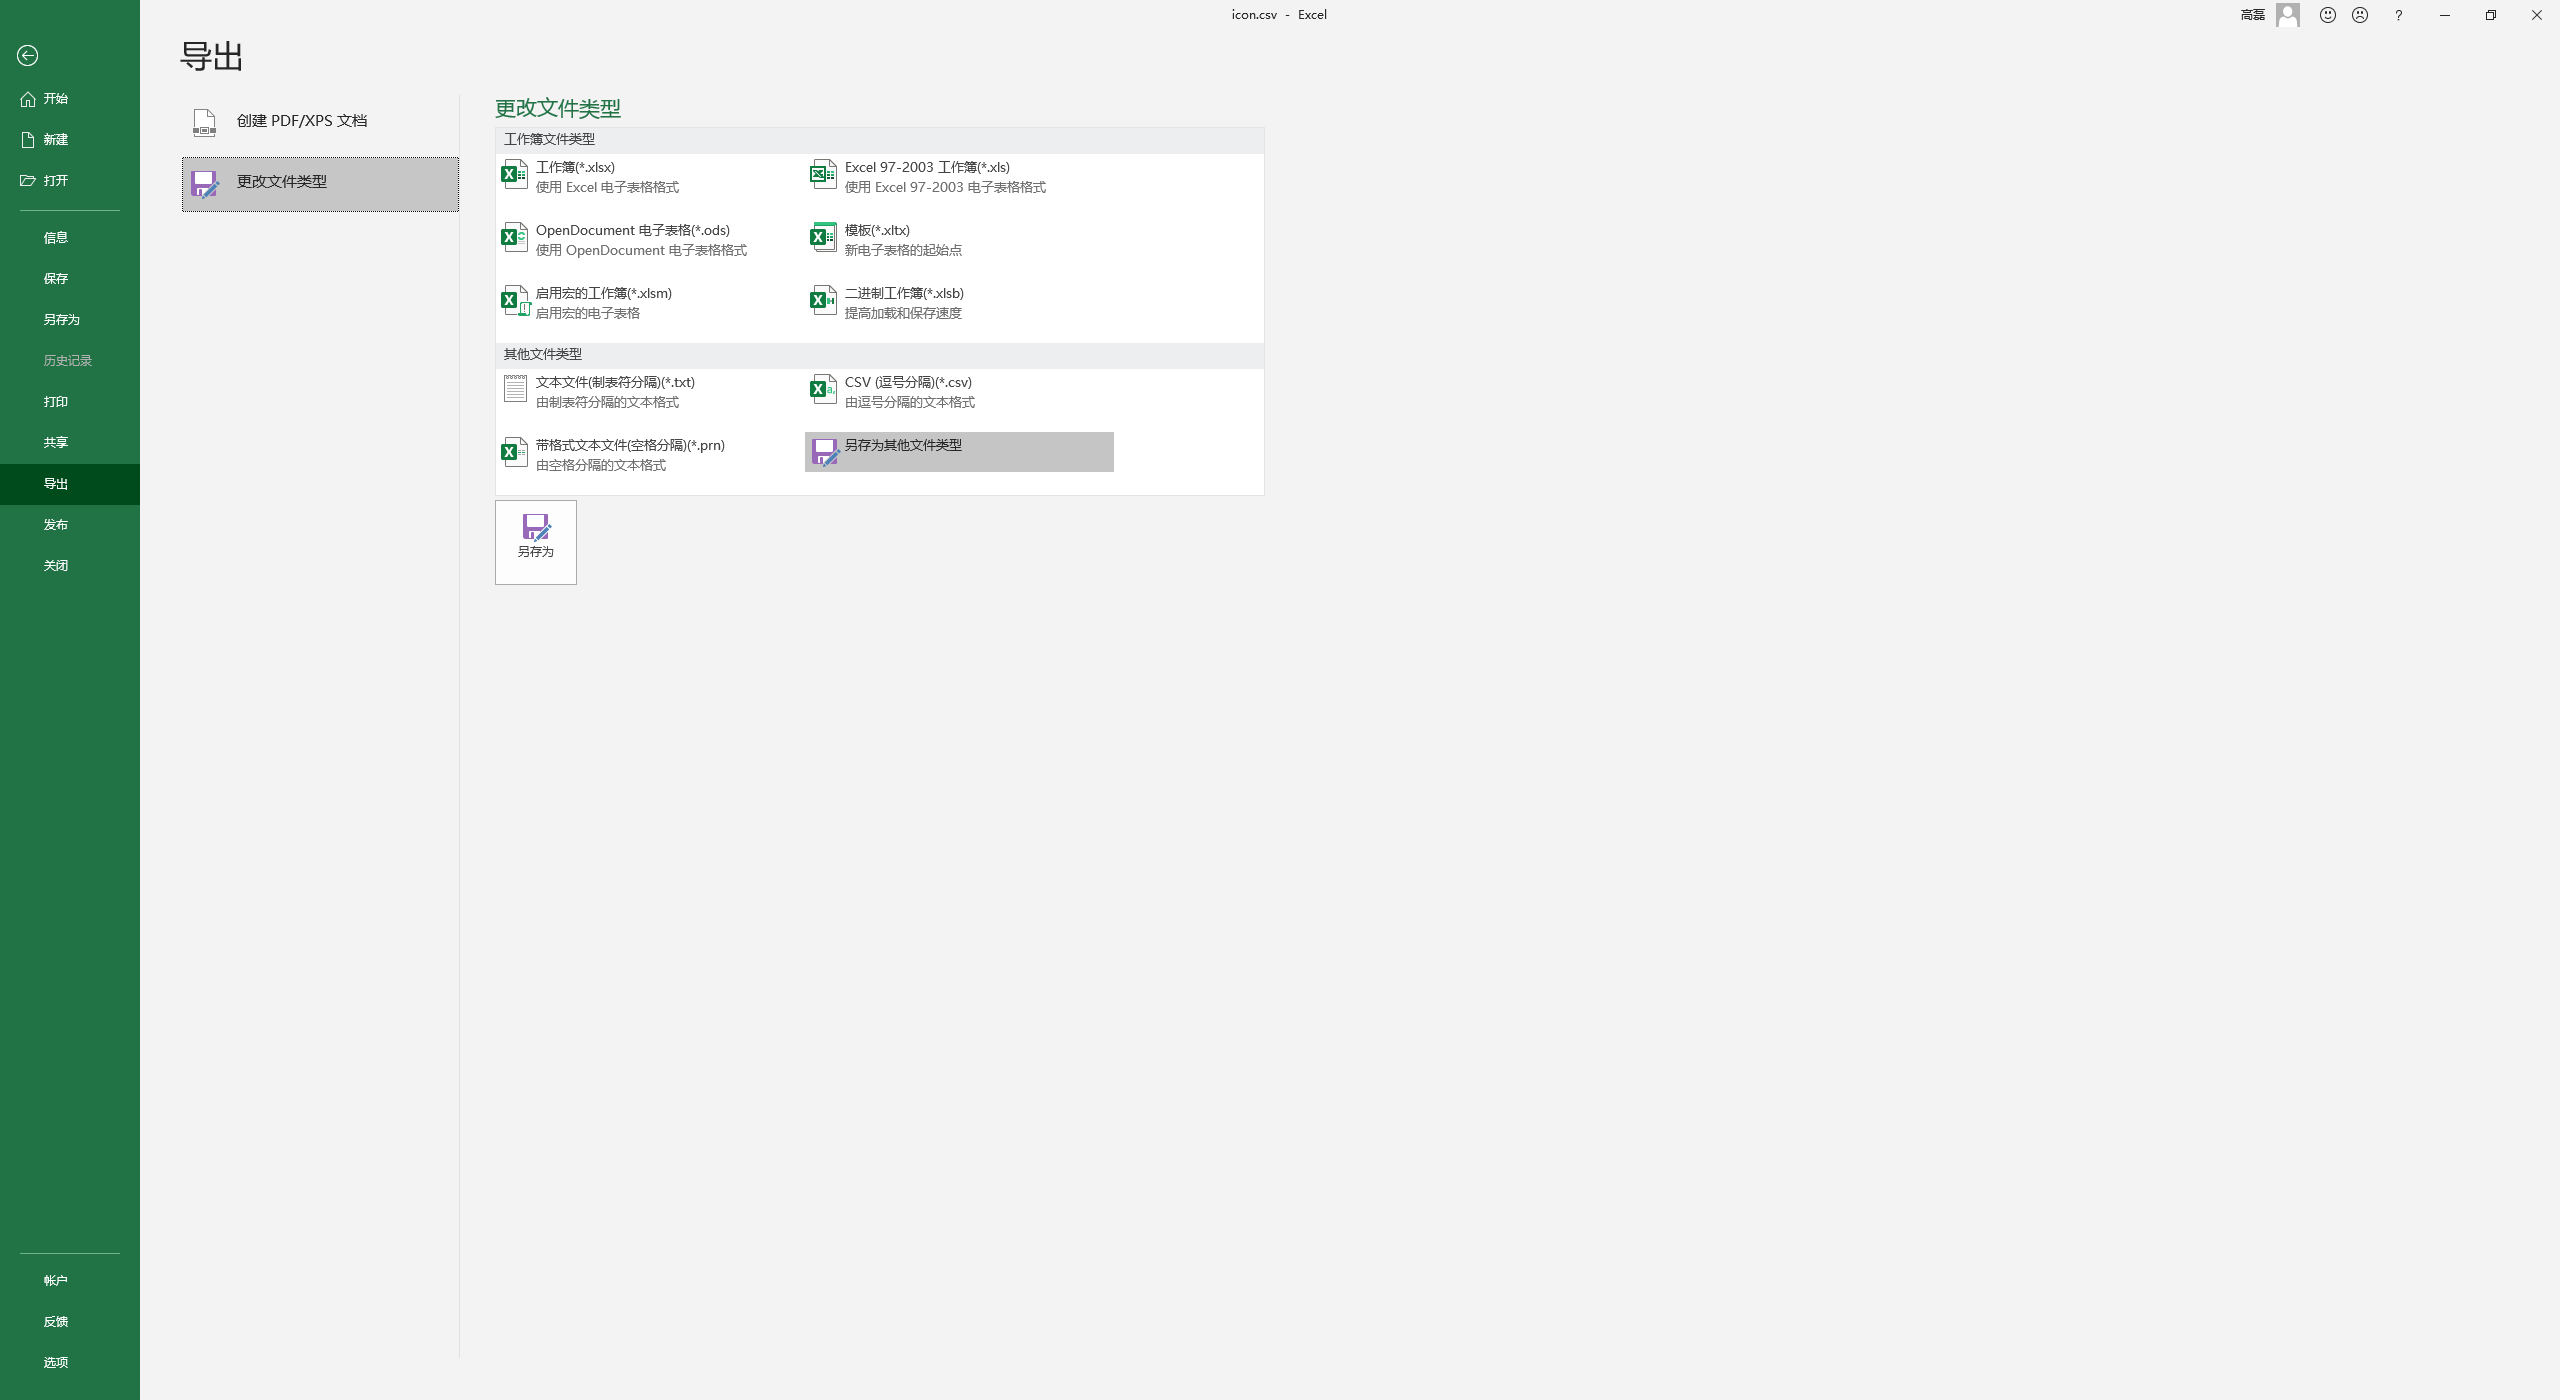character: (534, 436, 729, 453), (538, 241, 748, 257), (845, 181, 1052, 197), (236, 109, 371, 129), (845, 436, 986, 455), (848, 159, 1014, 174), (846, 395, 995, 412), (538, 179, 679, 197), (496, 98, 624, 117), (534, 283, 674, 300), (534, 224, 731, 236), (841, 284, 972, 300), (845, 374, 976, 390), (536, 305, 648, 322), (1229, 5, 1338, 22), (540, 374, 695, 386), (846, 241, 965, 257), (538, 455, 667, 469), (538, 397, 684, 409), (241, 174, 329, 191), (503, 131, 598, 145), (848, 307, 965, 317), (496, 347, 591, 359), (536, 160, 622, 172), (846, 222, 921, 236), (45, 352, 91, 369), (43, 314, 83, 328), (41, 436, 76, 452), (41, 229, 71, 247), (515, 547, 557, 559), (2239, 5, 2265, 24), (43, 1353, 71, 1371), (41, 269, 67, 286), (41, 1314, 72, 1328), (41, 516, 71, 529), (43, 91, 71, 105), (45, 133, 74, 145), (45, 476, 67, 491), (41, 559, 67, 571), (47, 397, 69, 410), (41, 1278, 71, 1286), (43, 178, 71, 186)
icon: (178, 36, 245, 71), (805, 433, 841, 471), (498, 284, 531, 317), (188, 169, 221, 200), (807, 221, 838, 253), (807, 372, 838, 405), (498, 155, 528, 190), (498, 219, 528, 253), (809, 155, 838, 190), (521, 512, 553, 541), (809, 284, 838, 316), (498, 436, 528, 467), (502, 372, 528, 403), (2274, 2, 2301, 28), (191, 109, 215, 133), (2315, 3, 2339, 24), (16, 45, 36, 66), (2350, 3, 2370, 24), (2434, 5, 2455, 22), (19, 129, 36, 148), (17, 171, 36, 188), (2389, 5, 2408, 22), (19, 90, 36, 107), (2527, 5, 2544, 22), (2482, 7, 2498, 21)
